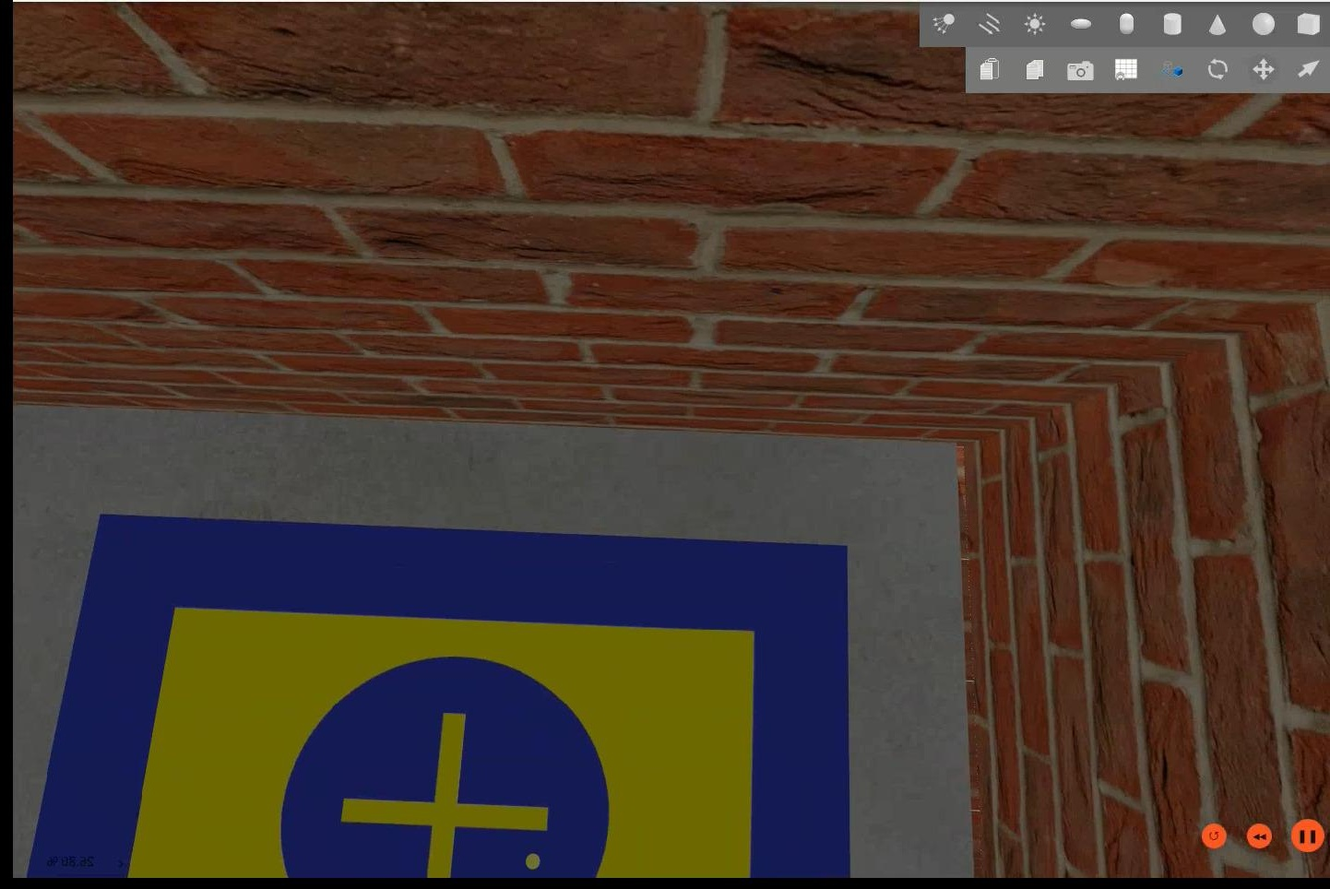large_base: (24, 513, 850, 880)
